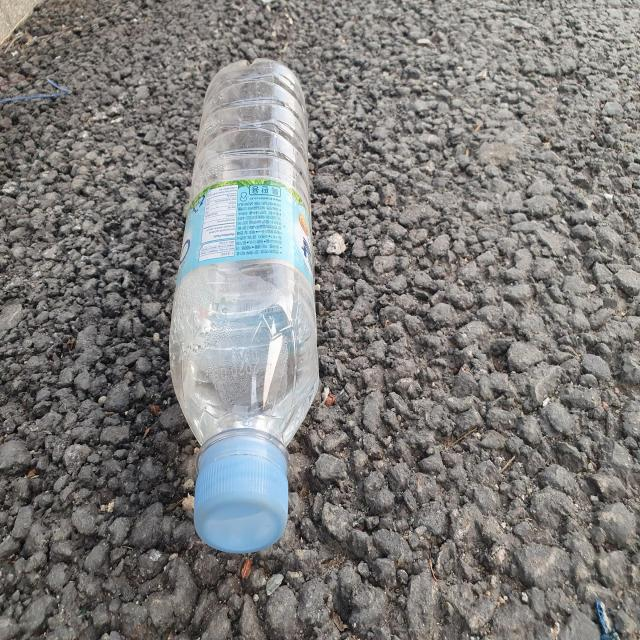plastic: (169, 58, 319, 553)
